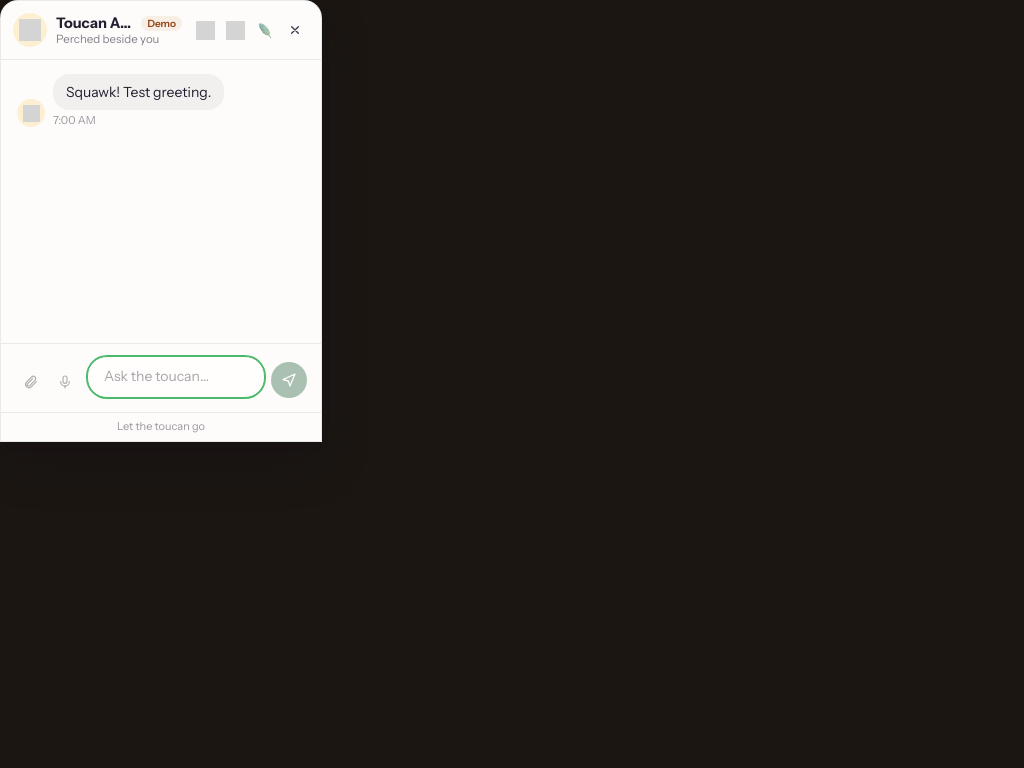
ToucanAssistantPanel — proactive return briefing › without a briefing nothing is spoken; the manual catch-up question still works afterwards
In the text box named "Message the toucan": point(176, 377) [87,356,265,398], type "catch me up"
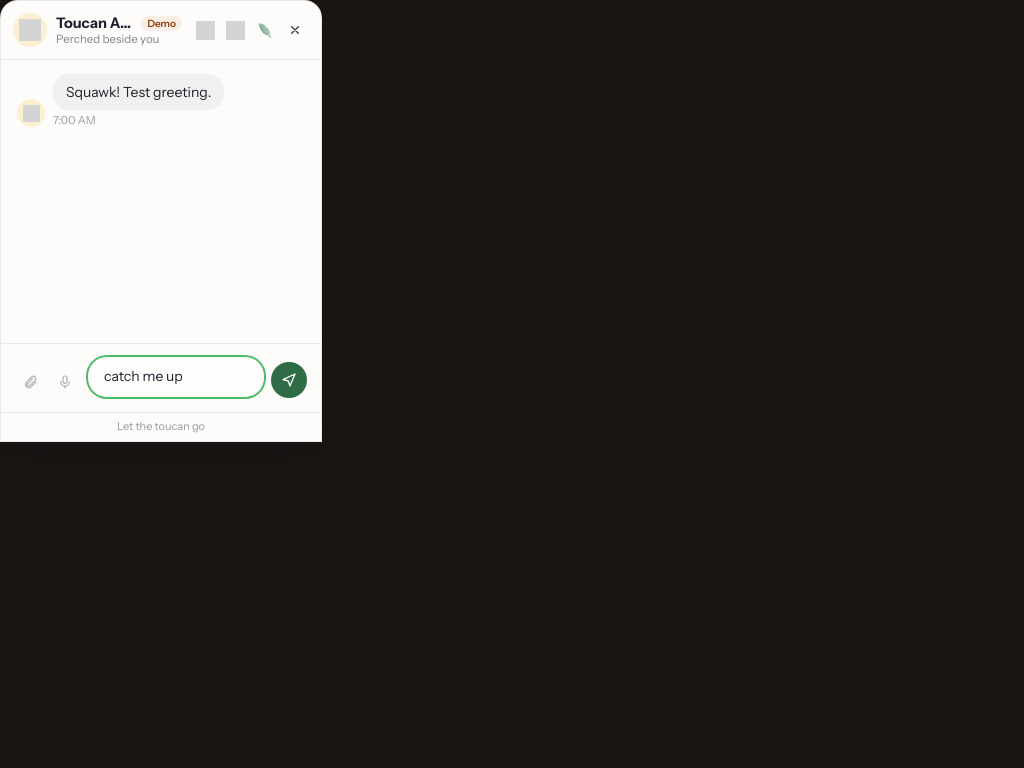
Press Enter in the text box named "Message the toucan", box [87,356,265,398]
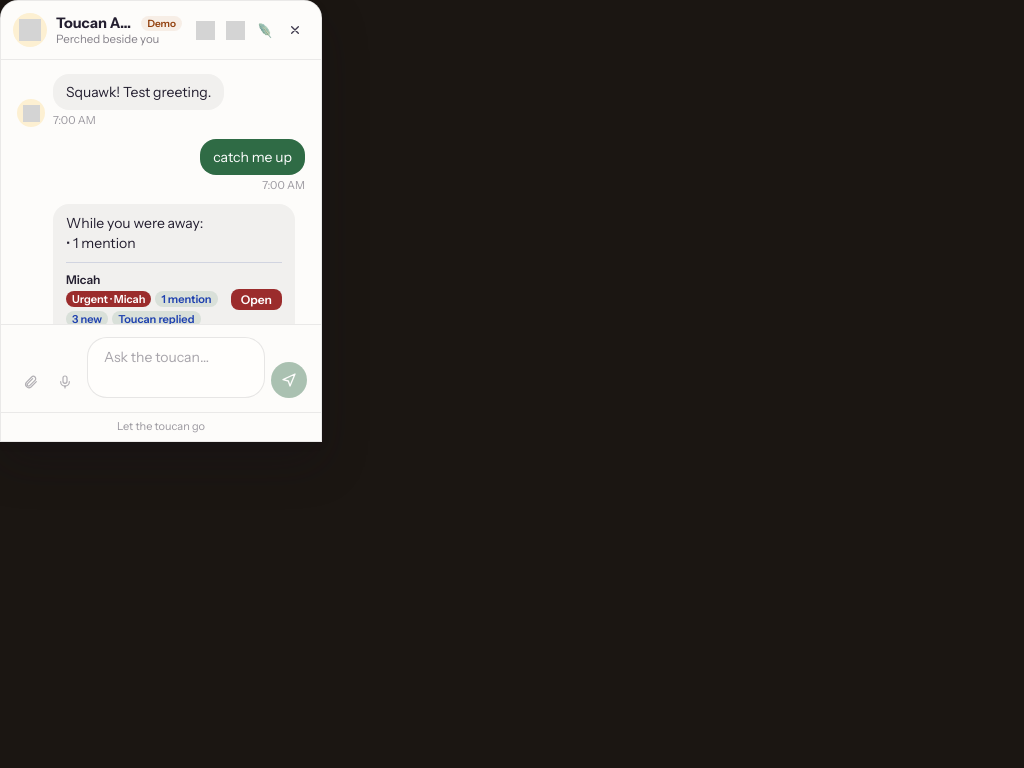
expect the text "While you were away:• 1 mention" is shown: met, box [66,214,203,252]
